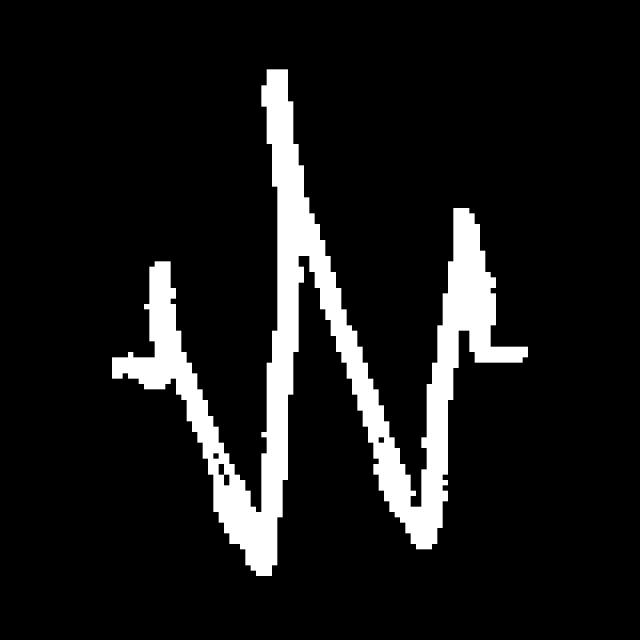resistor: (133, 54, 509, 592)
